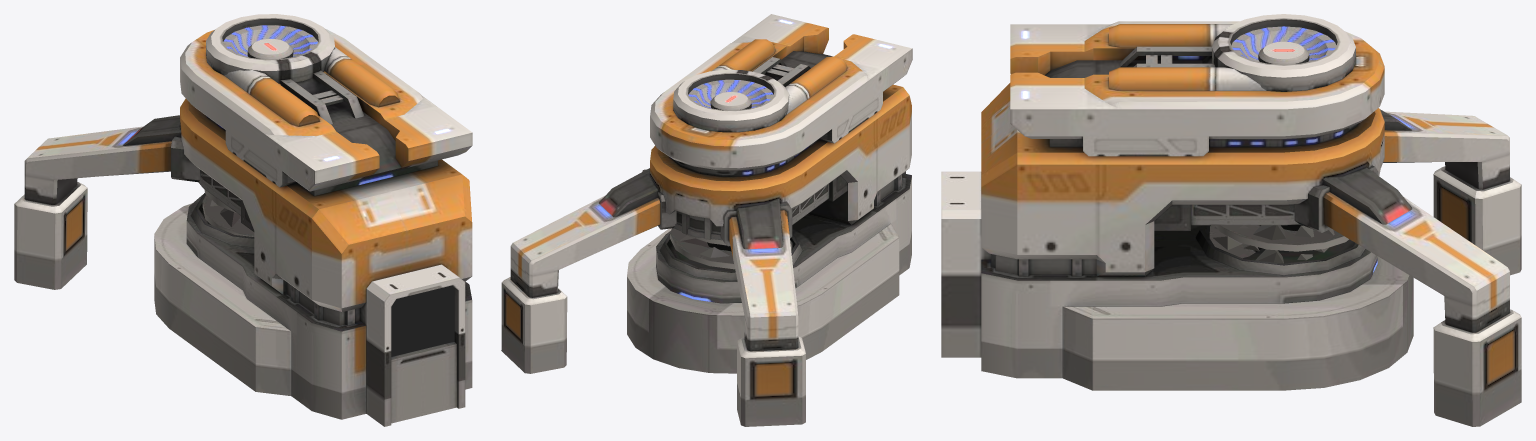
3 views of the same model, side by side, from view 1: azimuth 30°, elevation 25°; view 2: azimuth 150°, elevation 25°; view 3: azimuth 270°, elevation 25° (orthographic). The views are drawn at different scales.
Parts seen in each view (by area): view 1: mining-drill; view 2: mining-drill; view 3: mining-drill.
Boxes of the visible parts, x1,y1,x2,y2 form: mining-drill: (14, 14, 472, 426); mining-drill: (501, 14, 912, 426); mining-drill: (941, 14, 1521, 426).
Bounding box in the file's own units: 5.99 × 4.5 × 8.06.
2 materials, 1 textured.
